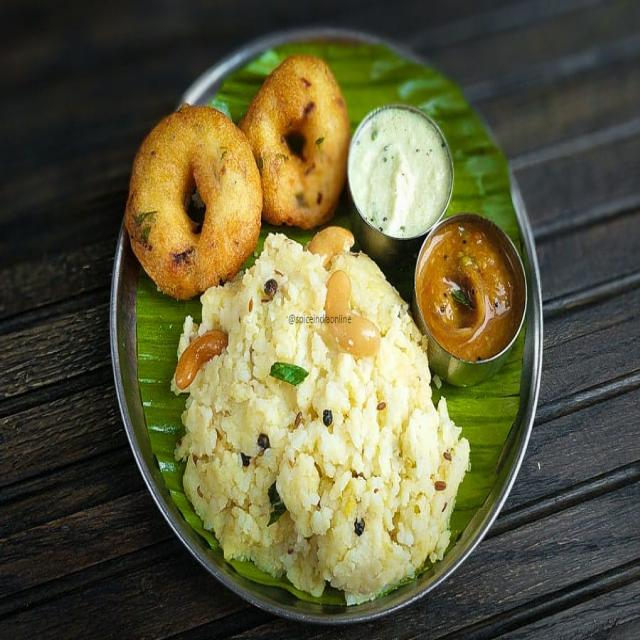khara pongal: (162, 224, 477, 617)
